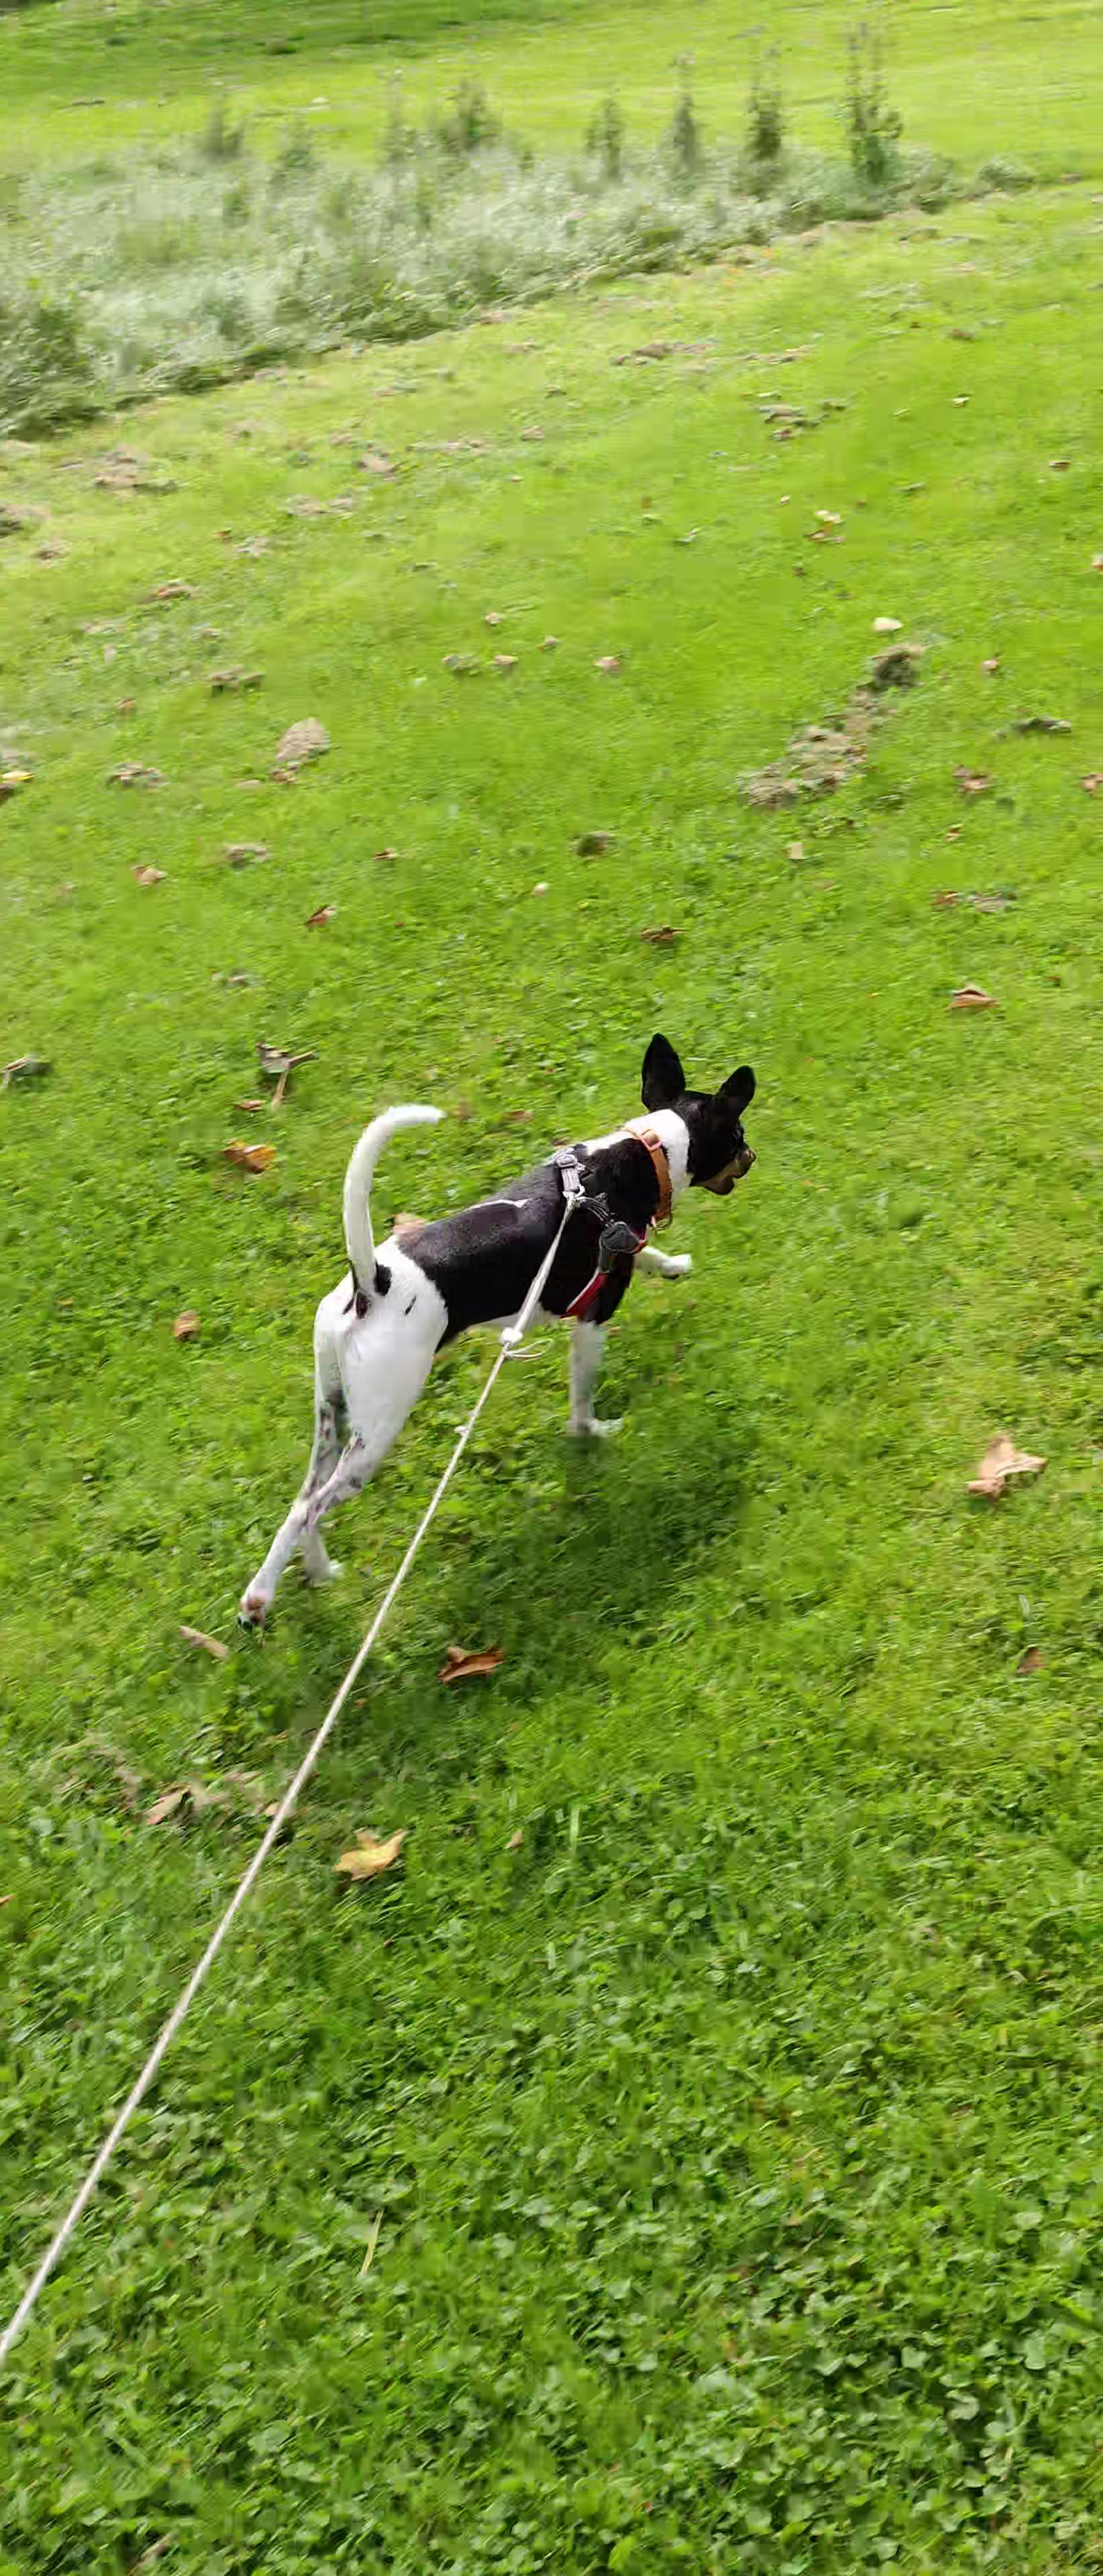Dog: (201, 1005, 771, 1658)
